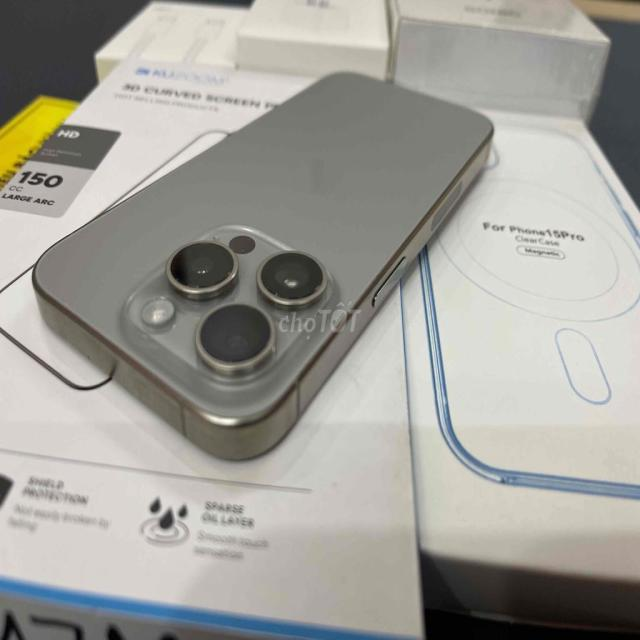gen_15: (28, 61, 504, 461)
